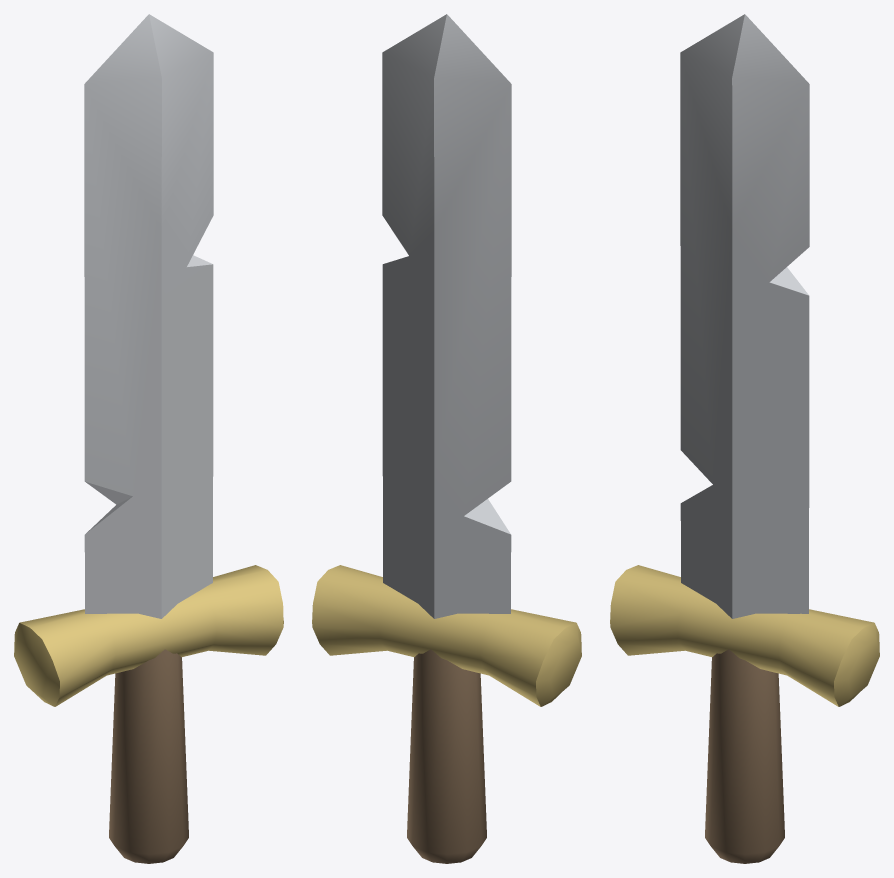
File: weapon_copper_sword.glb
3 views of the same model, side by side, from view 1: azimuth 30°, elevation 25°; view 2: azimuth 150°, elevation 25°; view 3: azimuth 330°, elevation 25° (orthographic).
Visible parts, largest first — view 1: copper_sword; view 2: copper_sword; view 3: copper_sword.
Boxes of the visible parts, x1,y1,x2,y2 form: copper_sword: [14, 14, 283, 863]; copper_sword: [312, 14, 581, 863]; copper_sword: [610, 14, 879, 863].
Size of the model in its own units: 0.354 by 1.15 by 0.1139.
